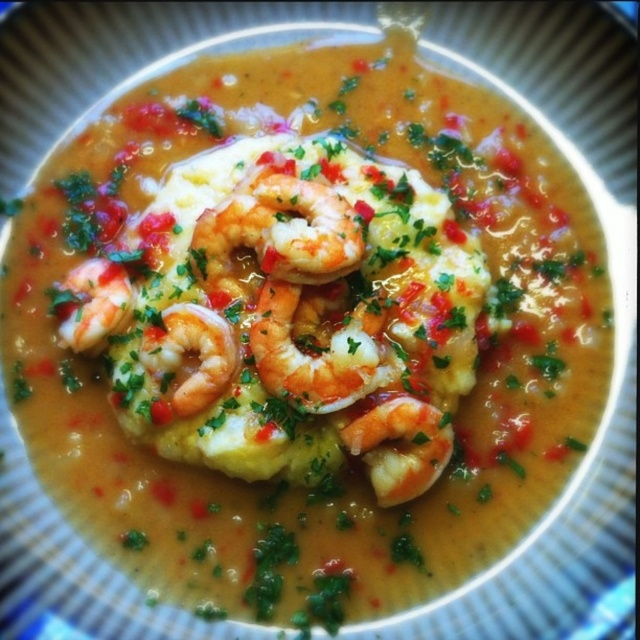Shrimp: (54, 173, 460, 506)
